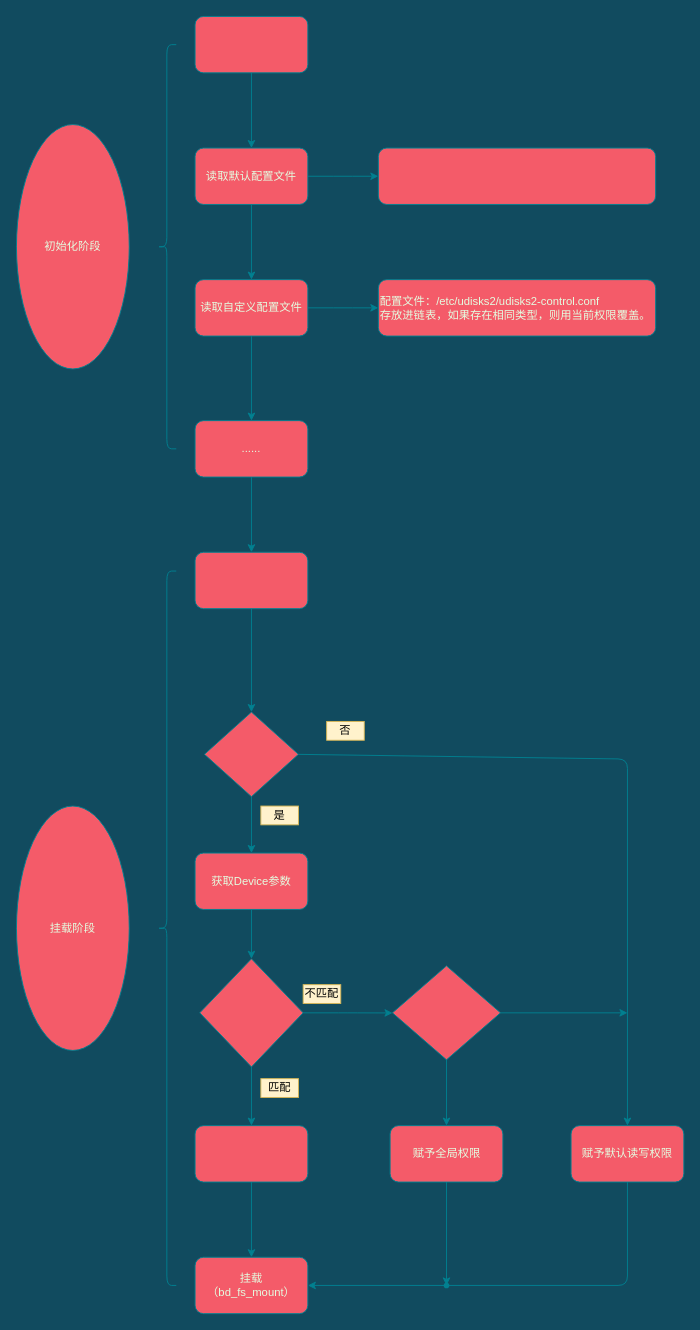
This 700x1330 diagram has some shape labels left out. Each missing label, with the centre of its shape:
"handle_mount" belongs at (251,580).
"init" belongs at (251,44).
"是否为可移动磁盘" belongs at (251,754).
"查找 链表全局行为" belongs at (446,1012).
"查找链表，获取具体型号" belongs at (251,1012).
"赋予对应权限" belongs at (251,1153).
"配置文件：/usr/lib/udisks2/udisks2-control-default.conf 存放进动态链表" belongs at (516,175).
